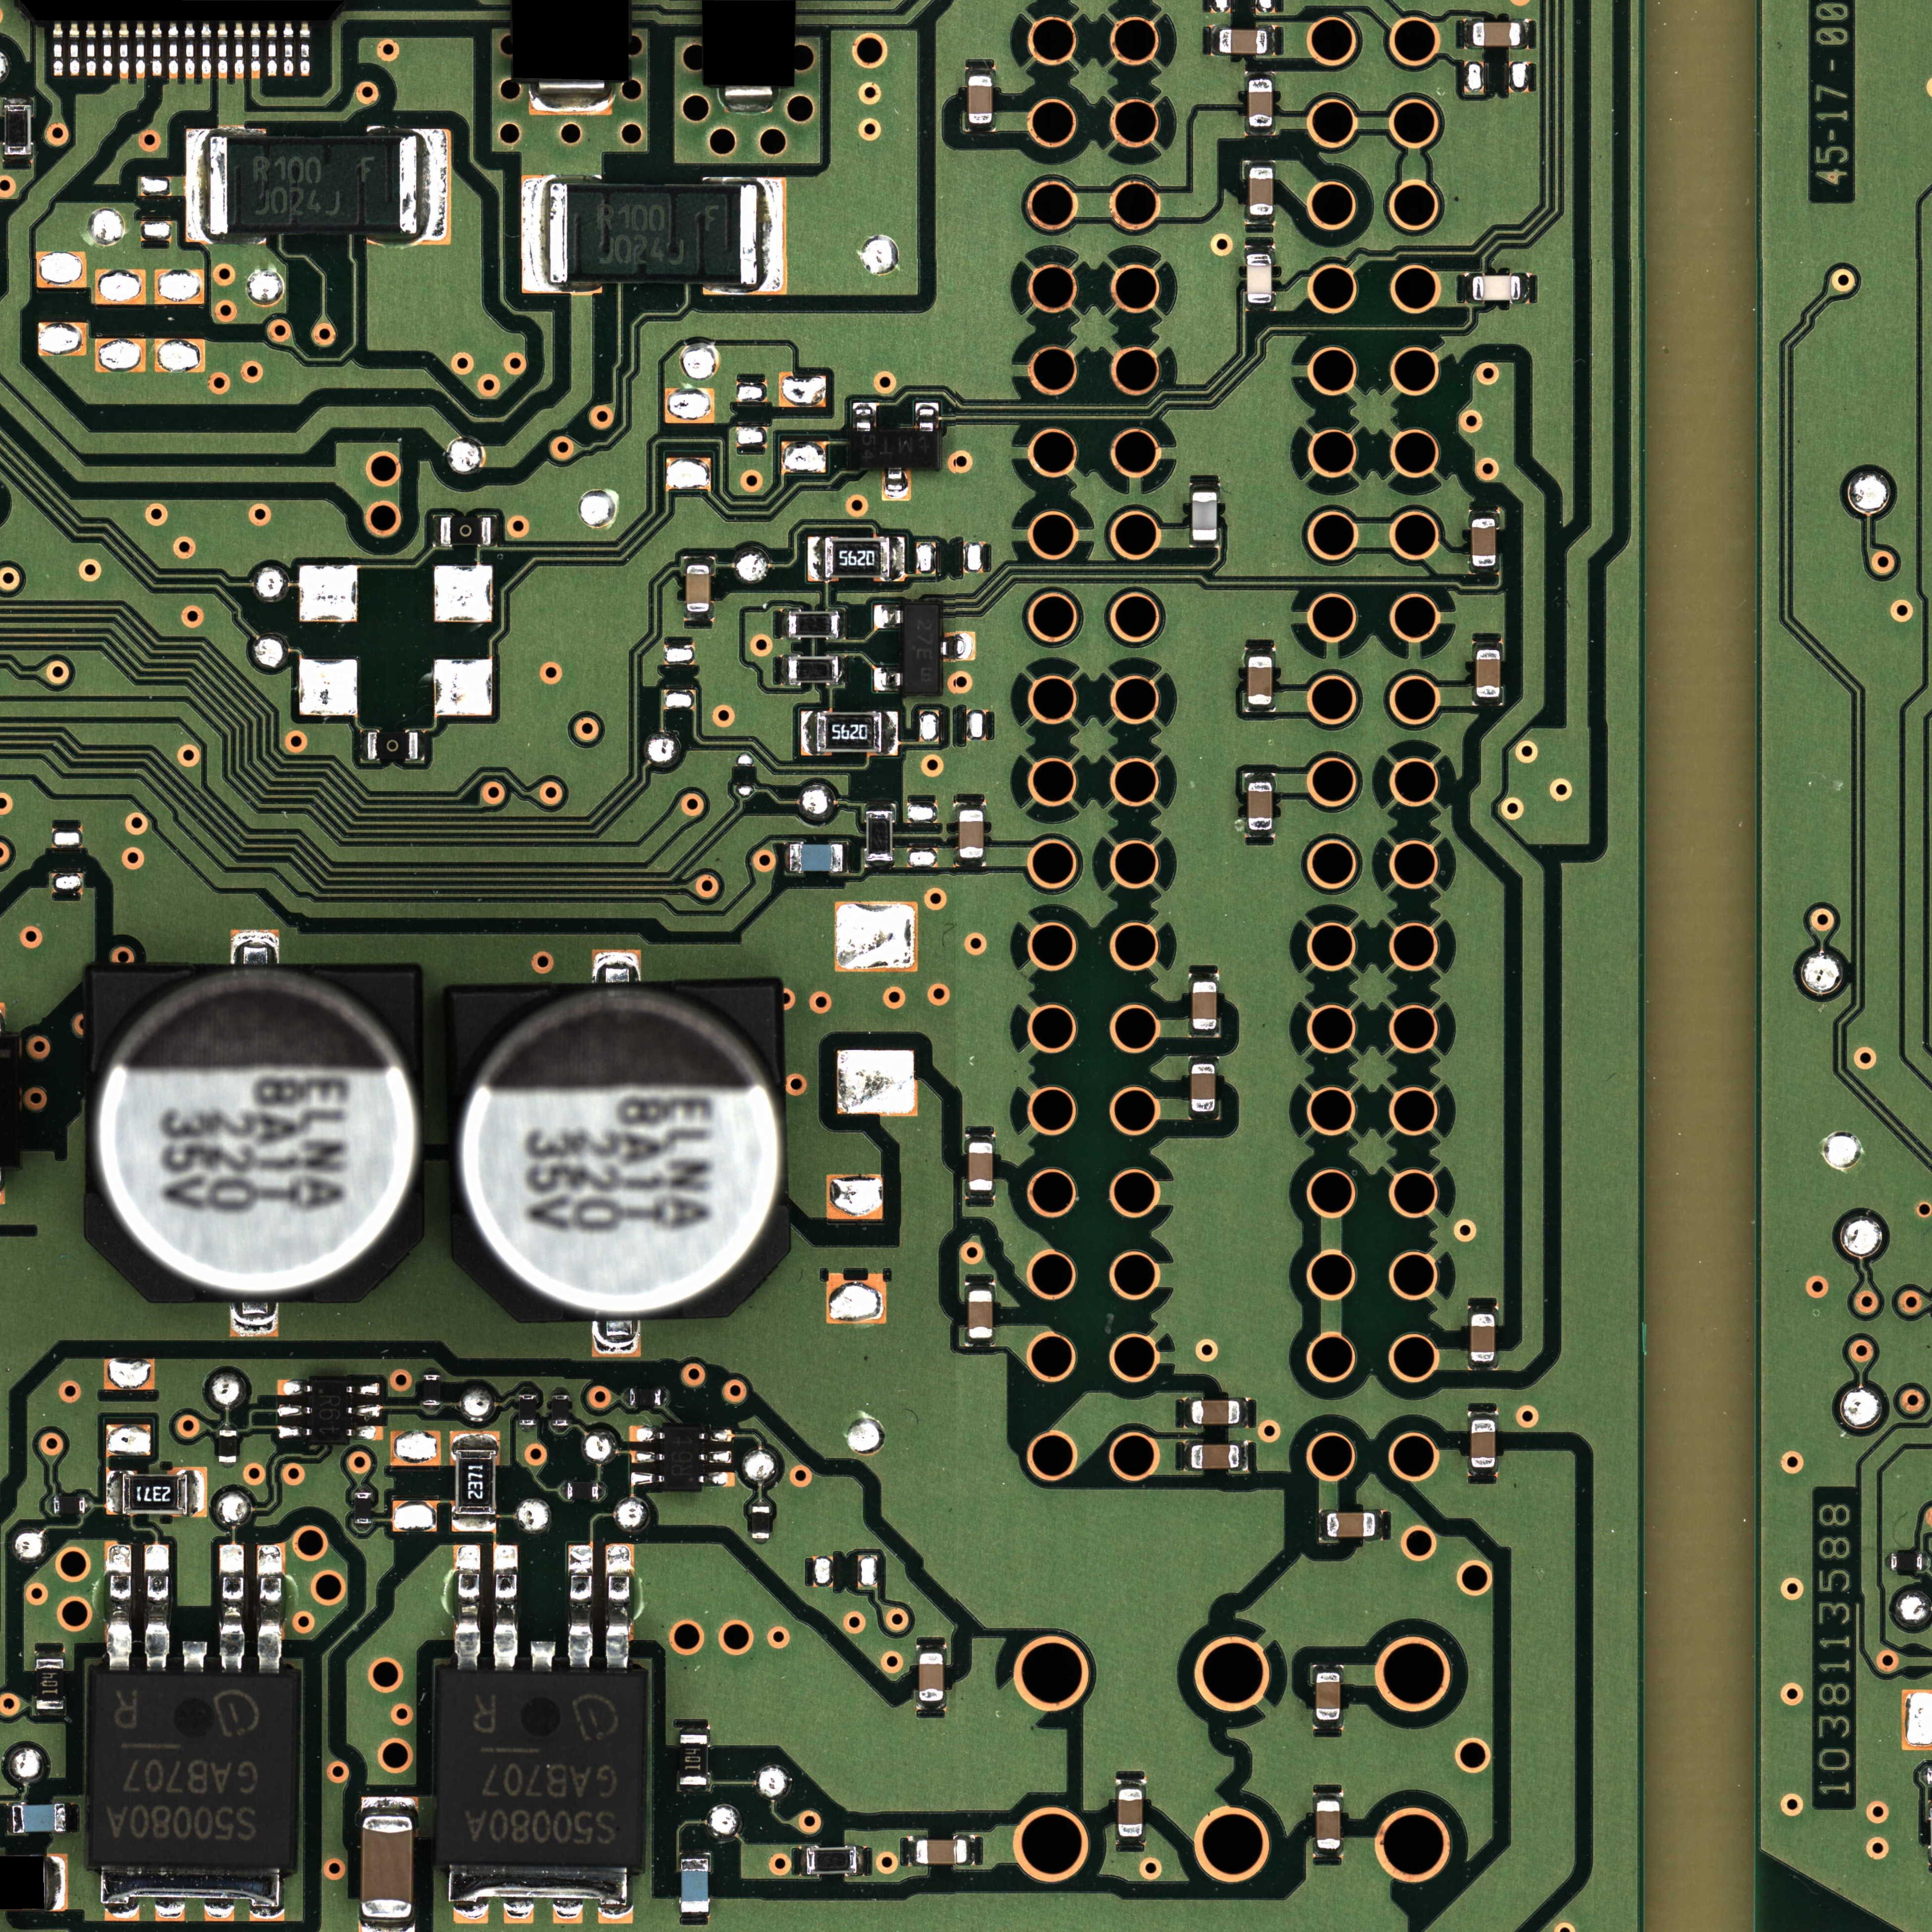Package: (451, 982, 791, 1323), (85, 962, 425, 1304), (441, 1672, 640, 1865), (94, 1674, 292, 1867), (550, 184, 755, 283), (211, 136, 418, 232), (361, 1817, 412, 1918), (849, 430, 938, 469), (902, 603, 939, 694), (824, 538, 890, 579), (455, 1449, 495, 1514), (122, 1474, 188, 1514), (816, 713, 881, 752), (663, 1426, 701, 1488), (311, 1380, 349, 1442), (12, 1805, 65, 1833), (681, 1859, 709, 1913), (35, 1658, 64, 1709), (791, 844, 842, 872), (679, 1734, 708, 1785), (441, 517, 490, 545), (789, 656, 839, 683), (807, 1847, 856, 1874), (368, 732, 418, 759), (867, 810, 892, 862), (789, 612, 839, 637), (1247, 253, 1272, 303), (5, 104, 30, 154), (916, 1840, 966, 1865), (1327, 1513, 1375, 1537), (1472, 276, 1520, 301), (1249, 168, 1274, 216), (1192, 492, 1217, 540), (968, 1143, 993, 1191), (968, 76, 993, 124), (1118, 1789, 1143, 1836), (1472, 21, 1520, 46), (1476, 649, 1500, 697), (1192, 982, 1217, 1030), (1247, 782, 1272, 830), (1192, 1399, 1240, 1424), (968, 1290, 993, 1338), (1316, 1801, 1341, 1849), (1470, 1419, 1495, 1467), (1472, 518, 1497, 566), (1191, 1063, 1215, 1111), (959, 810, 984, 858), (1191, 1445, 1240, 1468), (920, 1652, 943, 1702), (1470, 1315, 1495, 1361), (1249, 656, 1272, 704), (1316, 1672, 1339, 1720), (1249, 80, 1272, 127), (1219, 30, 1267, 53), (686, 564, 709, 612), (219, 1430, 237, 1463), (752, 1506, 770, 1539), (53, 1497, 85, 1514), (354, 1491, 372, 1523), (518, 1394, 536, 1426), (1891, 1553, 1923, 1571), (568, 1483, 598, 1500), (423, 1375, 441, 1405), (630, 1389, 662, 1405), (552, 1394, 568, 1426)
Solder: (449, 1865, 633, 1923), (103, 1867, 285, 1921), (605, 1545, 633, 1670), (257, 1545, 283, 1674), (219, 1545, 246, 1672), (568, 1545, 594, 1670), (455, 1545, 481, 1670), (106, 1541, 131, 1672), (145, 1543, 170, 1672), (494, 1545, 518, 1670), (522, 179, 548, 294), (419, 131, 446, 242), (186, 129, 211, 242), (759, 179, 782, 292), (529, 85, 612, 115), (593, 1320, 640, 1357), (230, 929, 280, 964), (230, 1302, 278, 1338), (593, 950, 640, 982), (725, 87, 773, 113), (48, 1854, 69, 1911), (361, 1798, 418, 1815), (188, 1468, 207, 1518), (941, 632, 975, 660), (451, 1431, 499, 1449), (451, 1514, 497, 1532), (883, 469, 909, 499), (881, 711, 899, 755), (182, 1642, 207, 1672), (809, 536, 824, 582), (106, 1470, 122, 1514), (800, 711, 816, 755), (531, 1642, 556, 1670), (200, 25, 212, 80), (51, 23, 64, 76), (85, 23, 97, 76), (874, 669, 902, 692), (874, 605, 902, 628), (853, 402, 876, 430), (890, 536, 904, 580), (916, 402, 938, 430), (119, 23, 129, 80), (218, 23, 228, 80), (234, 23, 244, 80), (251, 23, 262, 80), (134, 25, 145, 80), (168, 23, 179, 78), (184, 23, 195, 78), (69, 23, 80, 76), (103, 23, 113, 76), (152, 23, 163, 76), (267, 25, 278, 76), (283, 25, 294, 76), (299, 25, 310, 76), (630, 1426, 663, 1442), (278, 1380, 310, 1396), (701, 1472, 736, 1486), (349, 1382, 380, 1396), (630, 1472, 663, 1484), (349, 1426, 377, 1440), (278, 1426, 310, 1438), (701, 1430, 732, 1442), (701, 1451, 732, 1463), (349, 1405, 380, 1417), (632, 1451, 663, 1463), (278, 1405, 310, 1415), (1116, 1778, 1146, 1789), (1313, 1720, 1343, 1730), (1244, 704, 1276, 713), (964, 124, 996, 133), (432, 515, 441, 547), (678, 1785, 709, 1794), (1468, 510, 1500, 518), (782, 842, 791, 874), (1240, 1440, 1249, 1472), (1318, 1509, 1327, 1541), (1472, 697, 1504, 706), (865, 801, 895, 810), (1246, 71, 1276, 80), (1189, 1030, 1219, 1039), (1189, 973, 1219, 982), (418, 731, 426, 761), (955, 801, 985, 810), (1246, 648, 1276, 656), (685, 556, 715, 564), (679, 1725, 709, 1734), (916, 1702, 947, 1711), (1246, 216, 1276, 225), (1246, 127, 1276, 136), (955, 858, 985, 867), (1246, 159, 1276, 168), (916, 1644, 947, 1652), (964, 1281, 994, 1290), (1246, 830, 1276, 839), (1313, 1849, 1343, 1858), (1472, 640, 1502, 649), (1313, 1792, 1343, 1801), (780, 609, 789, 639), (679, 1913, 709, 1921), (1520, 272, 1529, 303), (685, 612, 713, 621), (1116, 1836, 1145, 1845), (1189, 1054, 1217, 1063), (1246, 244, 1274, 253), (1267, 27, 1276, 55), (1210, 27, 1219, 55), (1191, 483, 1219, 492), (966, 1134, 994, 1143), (798, 1847, 807, 1875), (1246, 773, 1274, 782), (1468, 1362, 1497, 1371), (966, 1191, 994, 1200), (780, 656, 789, 685), (856, 1847, 865, 1875), (1189, 1113, 1221, 1120), (490, 515, 497, 547), (65, 1801, 73, 1833), (35, 1651, 65, 1658), (679, 1851, 709, 1858), (909, 1836, 916, 1867), (361, 731, 368, 761), (1189, 541, 1219, 548), (1313, 1665, 1343, 1672), (1468, 1306, 1499, 1313), (1468, 568, 1499, 575), (4, 97, 34, 104), (1184, 1398, 1191, 1428), (1240, 1398, 1247, 1428), (1376, 1511, 1384, 1541), (1184, 1440, 1191, 1470), (968, 1836, 975, 1867), (1465, 272, 1472, 303), (5, 1803, 12, 1833), (1468, 1468, 1499, 1476), (4, 156, 34, 163), (35, 1709, 65, 1716), (1522, 18, 1529, 48), (966, 1339, 994, 1346), (1468, 1412, 1497, 1419), (966, 67, 994, 74), (865, 862, 893, 869), (839, 610, 846, 639), (1465, 19, 1472, 48), (1246, 304, 1274, 311), (839, 656, 846, 683), (844, 842, 849, 872), (354, 1523, 372, 1532), (219, 1422, 237, 1430), (423, 1407, 441, 1414), (752, 1539, 770, 1546), (518, 1387, 536, 1394), (46, 1497, 53, 1514), (423, 1368, 441, 1375), (1884, 1553, 1891, 1571), (552, 1426, 568, 1433), (561, 1483, 568, 1499), (552, 1387, 568, 1394), (598, 1484, 605, 1499), (219, 1463, 237, 1468), (518, 1426, 536, 1431), (752, 1500, 770, 1506), (625, 1389, 630, 1405), (85, 1497, 90, 1513), (356, 1486, 372, 1491), (1923, 1555, 1928, 1569)
